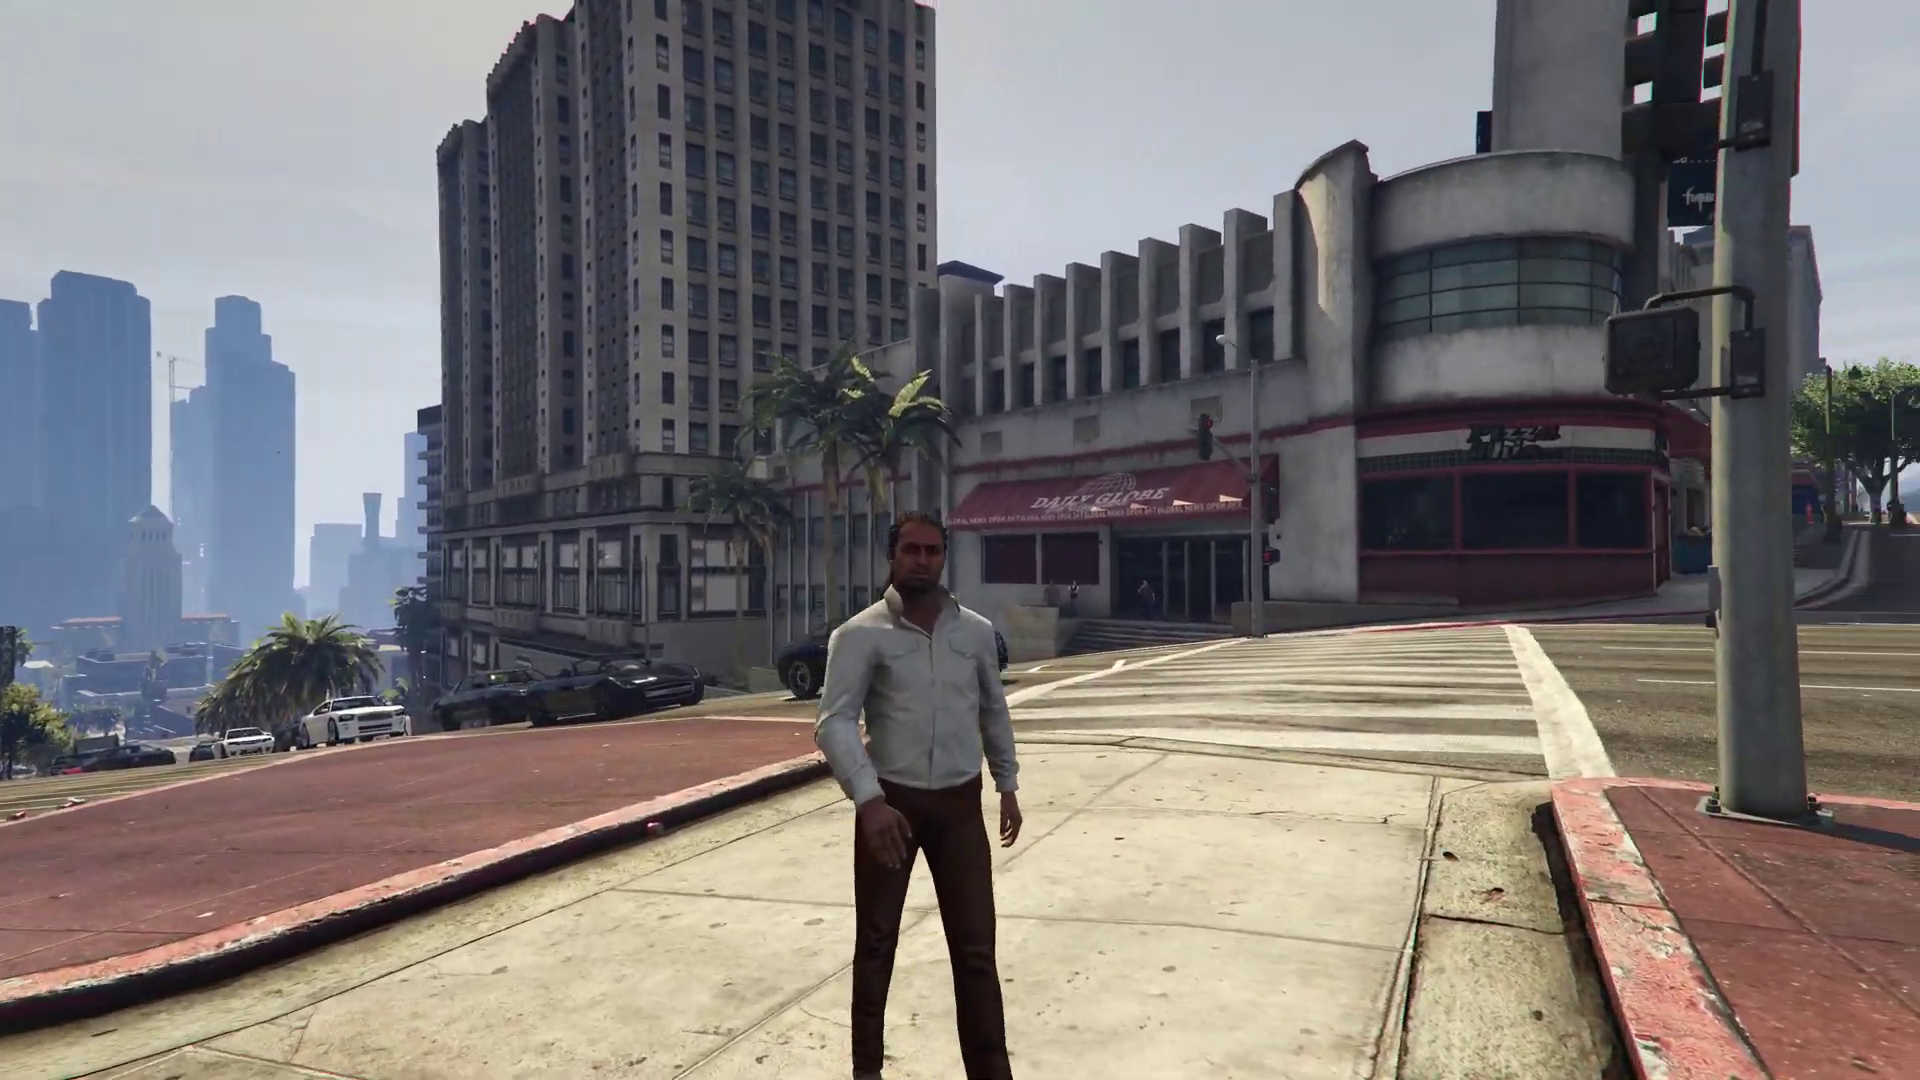car: (780, 616, 1009, 696), (533, 649, 705, 730), (430, 670, 548, 726), (297, 697, 407, 744), (59, 743, 173, 772), (218, 728, 272, 756)
person: (813, 511, 1027, 1080), (1136, 580, 1158, 618), (1040, 579, 1060, 607), (1066, 580, 1080, 615)
traffic light: (1620, 1, 1710, 171), (1600, 308, 1700, 396), (1198, 416, 1212, 461), (1263, 483, 1279, 524), (1261, 547, 1281, 566)
